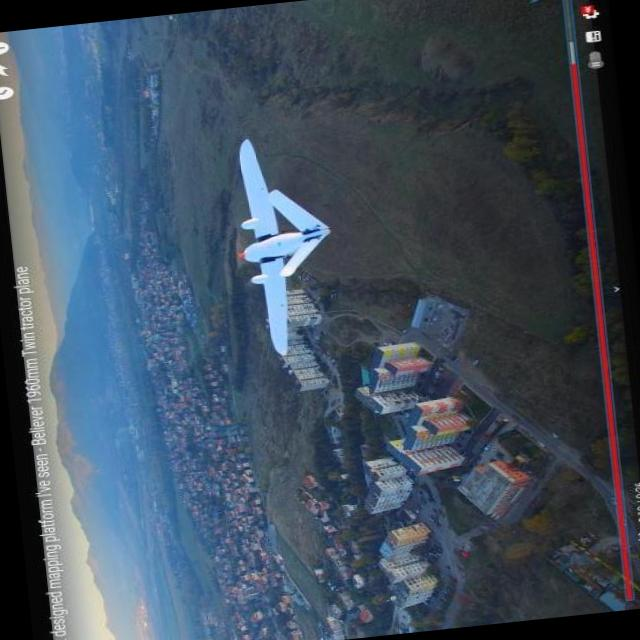UAV: (193, 118, 354, 364)
